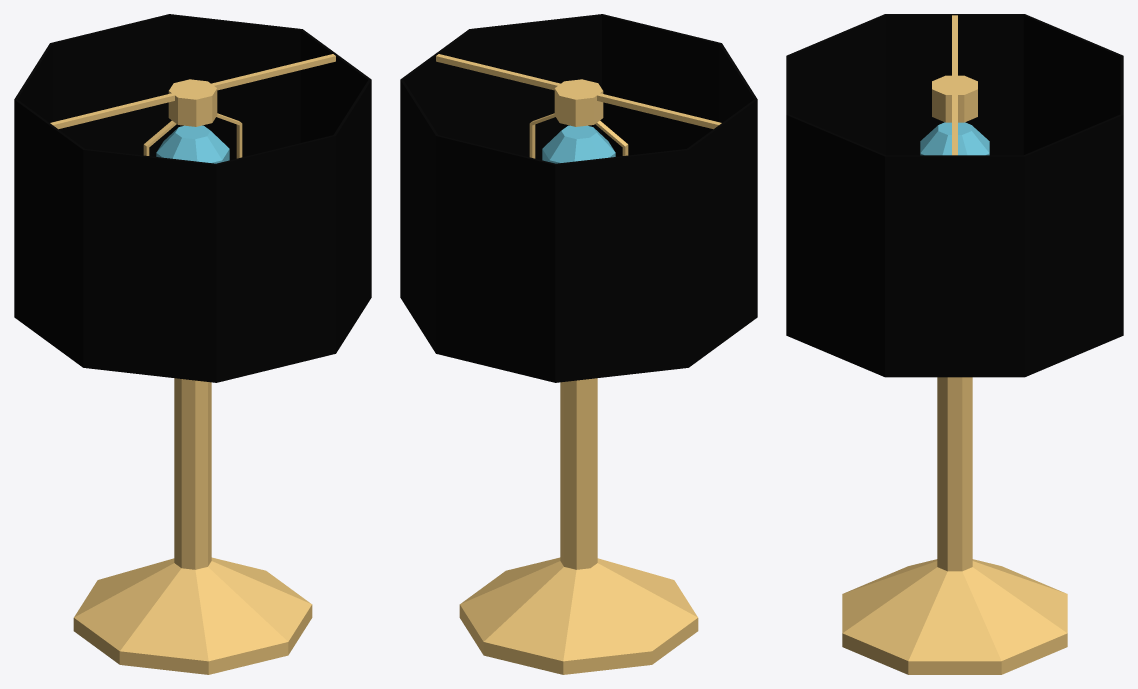
Rendered from Table Lamp.fbx.
3 views of the same model, side by side, from view 1: azimuth 30°, elevation 25°; view 2: azimuth 150°, elevation 25°; view 3: azimuth 270°, elevation 25° (orthographic).
Visible parts, largest first — view 1: Shade, Stand, Bulb; view 2: Shade, Stand, Bulb; view 3: Shade, Stand, Bulb.
Part boxes in pixels (left/top/right/bottom): Shade: left=14, top=14, right=371, bottom=382; Stand: left=50, top=54, right=335, bottom=674; Bulb: left=156, top=125, right=229, bottom=163; Shade: left=400, top=14, right=757, bottom=382; Stand: left=436, top=54, right=721, bottom=674; Bulb: left=542, top=125, right=615, bottom=163; Shade: left=786, top=14, right=1123, bottom=377; Stand: left=842, top=15, right=1067, bottom=674; Bulb: left=920, top=122, right=989, bottom=155.
Size of the model in its own units: 0.2816 by 0.4991 by 0.2816.
